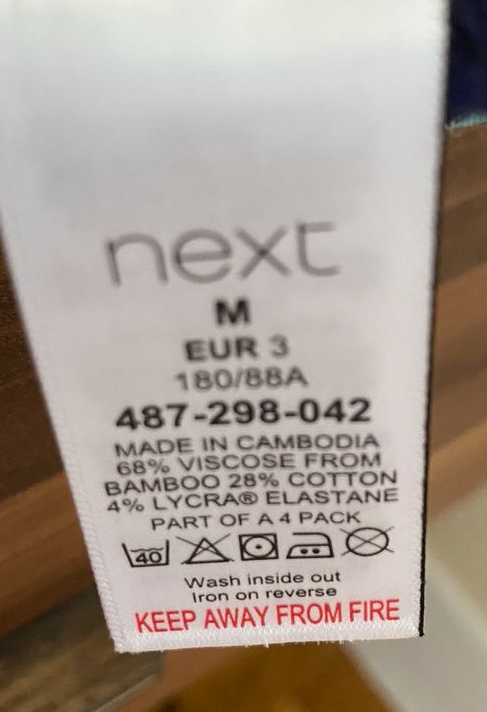do_not_bleach: (175, 528, 237, 568)
do_not_dry_clean: (337, 522, 397, 559)
ironing_at_med_temp: (282, 527, 336, 563)
tumble_drying_low_temps: (237, 530, 281, 564)
wash_at_or_below_40: (119, 534, 173, 572)
